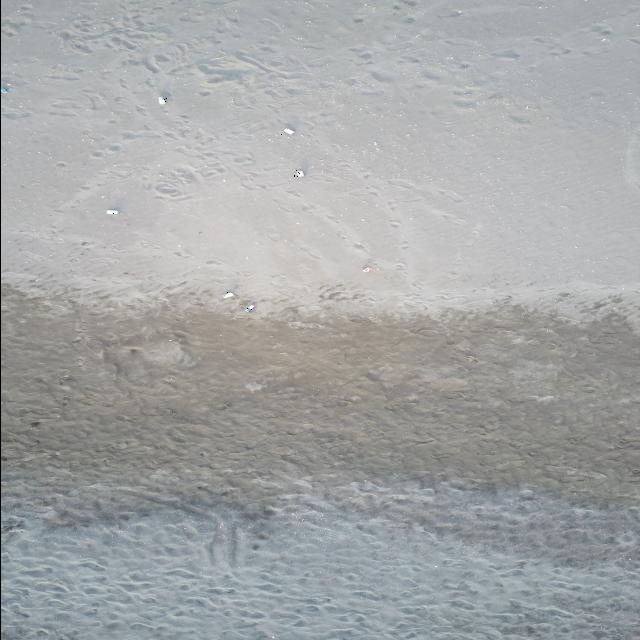Garbage: (105, 208, 119, 215), (243, 303, 253, 312), (292, 168, 303, 176), (363, 264, 373, 272), (280, 128, 292, 134), (223, 291, 233, 298), (158, 96, 167, 103), (0, 85, 8, 92)
